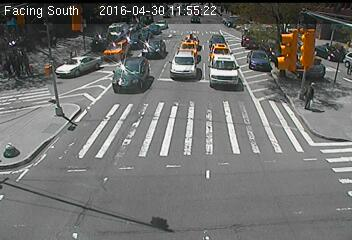neg: (104, 120, 139, 166), (32, 131, 62, 172), (229, 36, 259, 76), (131, 195, 159, 232), (273, 127, 300, 163), (166, 53, 191, 86), (105, 44, 129, 76), (72, 36, 95, 67), (212, 117, 235, 148), (41, 66, 64, 96), (282, 21, 304, 51), (3, 136, 25, 165), (228, 173, 248, 199), (299, 174, 317, 198), (150, 212, 167, 234), (50, 105, 67, 127)
pos: (300, 80, 324, 112)
